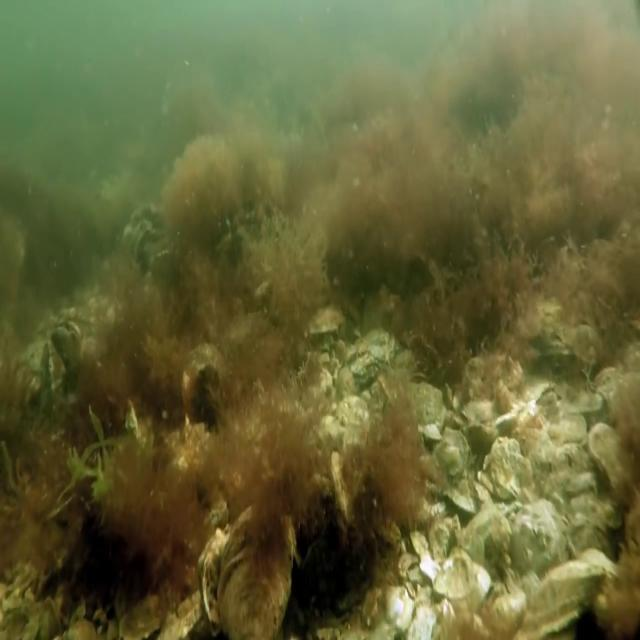Oyster-Indeterminate: (217, 501, 306, 639), (303, 298, 350, 340)
